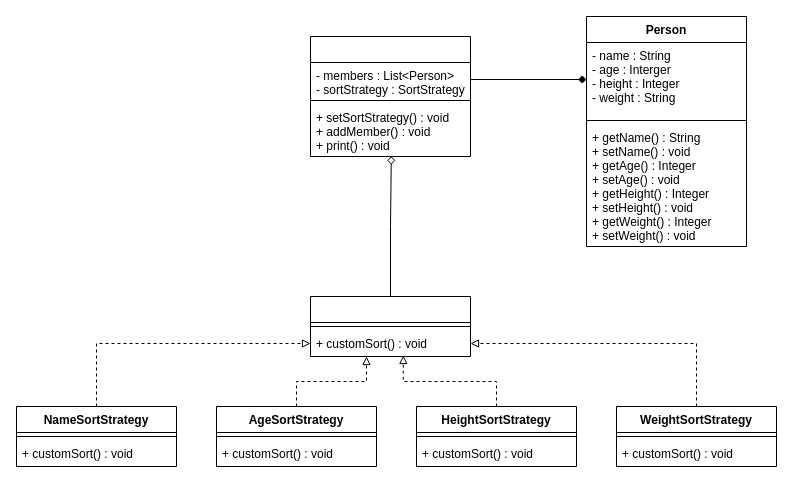
Image size: 793x483. Some labels were removed from this diagram. The box of each missing label's shape, as (x1, y1, x2, y2) in pixels:
People: (310, 36, 470, 156)
SortStrategy: (310, 296, 470, 356)
